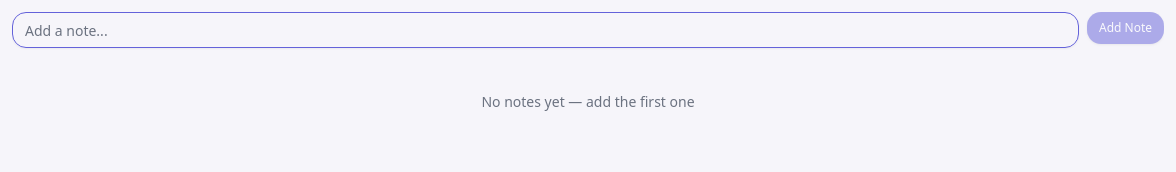
AdvisorNotes › typing text enables button
The width and height of the screenshot is (1176, 172).
In the field named "note text": (546, 30) x1=12 y1=12 x2=1079 y2=48, type "Hello"
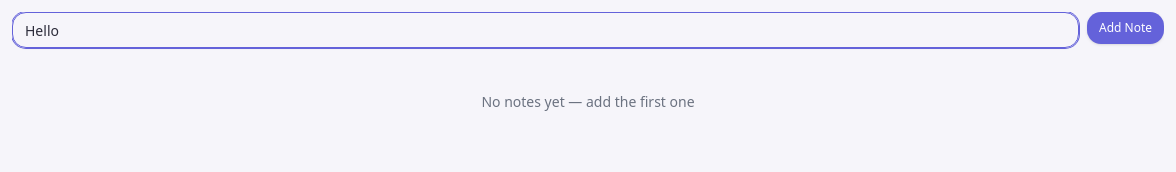
Now the button "Add Note" is enabled, box x1=1087 y1=12 x2=1164 y2=44
